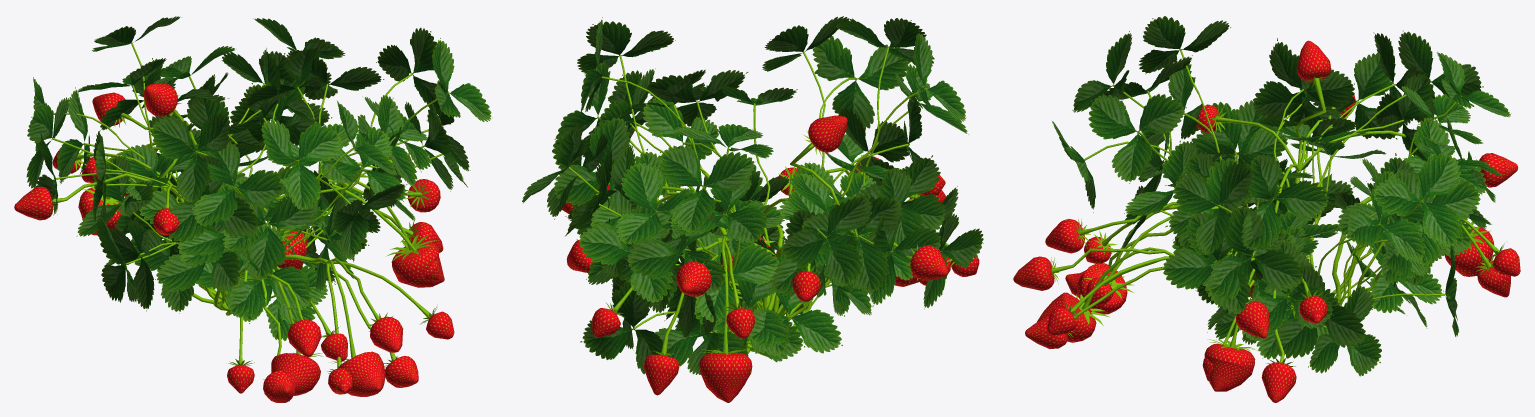
File: strawberry_plant_03.obj
The picture shows the model from 3 angles, left to right: view 1: azimuth 30°, elevation 25°; view 2: azimuth 150°, elevation 25°; view 3: azimuth 270°, elevation 25°; orthographic projection. The views are drawn at different scales.
Visible parts, largest first — view 1: Strawberry_003; view 2: Strawberry_003; view 3: Strawberry_003.
Part boxes in pixels (x1,y1,x2,y2): Strawberry_003: (14,16,492,402); Strawberry_003: (522,16,983,402); Strawberry_003: (1013,16,1520,402).
Bounding box in the file's own units: 0.4843 × 0.3076 × 0.5047.
5 materials, 5 textured.
